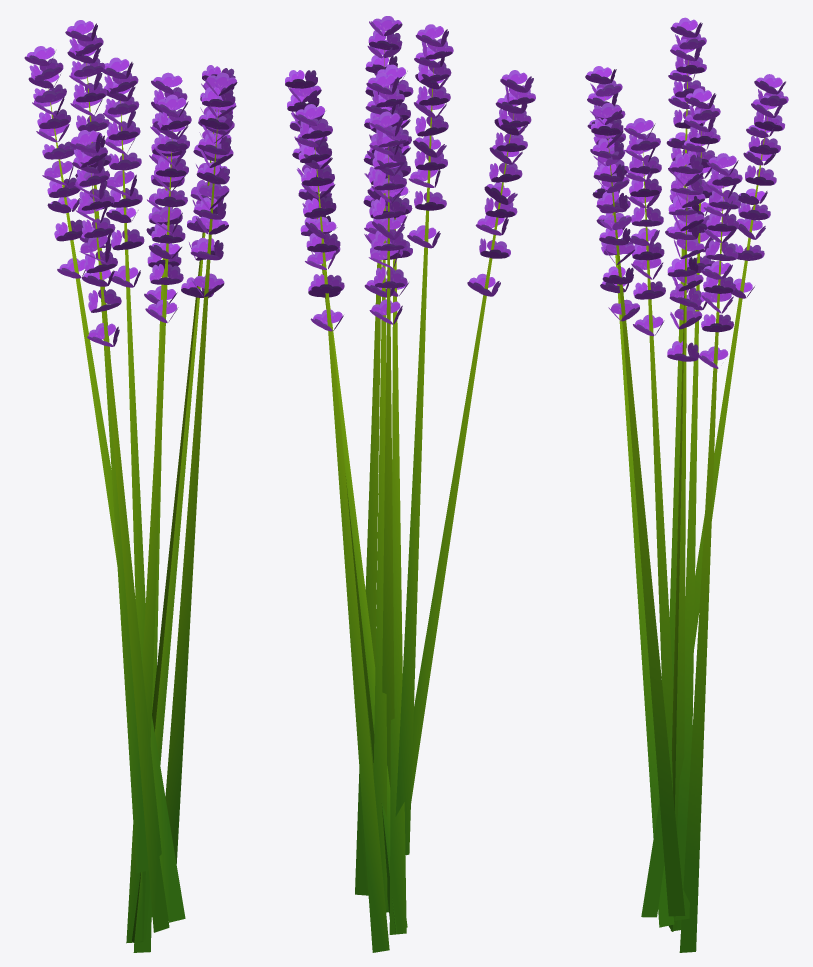
The model's file is plant_lavender.fbx.
3 renders of one model, left to right at view 1: azimuth 30°, elevation 25°; view 2: azimuth 150°, elevation 25°; view 3: azimuth 270°, elevation 25°, orthographic. The views are drawn at different scales.
Parts seen in each view (by area): view 1: Lavender; view 2: Lavender; view 3: Lavender.
Boxes of the visible parts, left/top/right/bottom form: Lavender: left=24, top=20, right=237, bottom=952; Lavender: left=285, top=16, right=535, bottom=952; Lavender: left=585, top=17, right=788, bottom=952.
Size of the model in its own units: 8.62 by 35.31 by 7.91.
